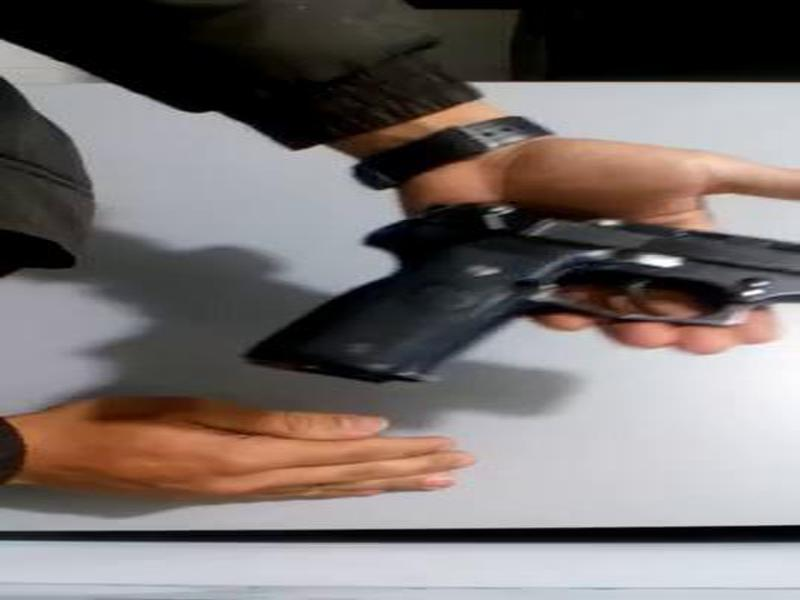Pistola: (246, 191, 787, 389)
